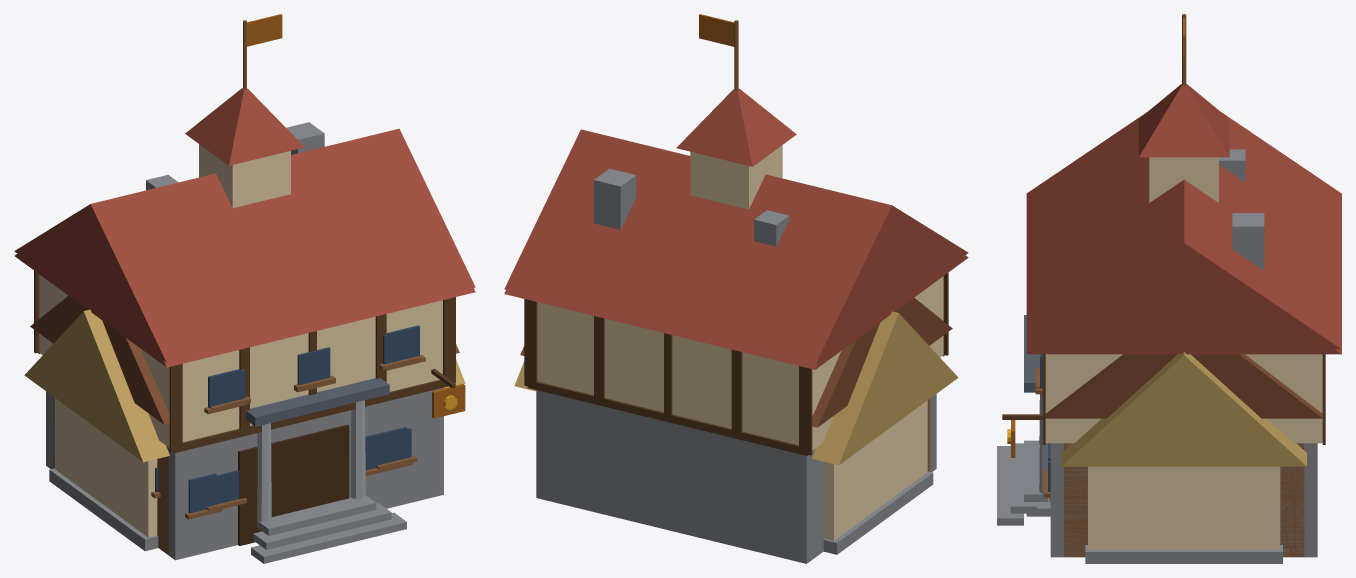
File: village.glb
The picture shows the model from 3 angles, left to right: view 1: azimuth 30°, elevation 25°; view 2: azimuth 150°, elevation 25°; view 3: azimuth 270°, elevation 25°; orthographic projection. The views are drawn at different scales.
Visible parts, largest first — view 1: roof.006, ground_floor, upper_floor, roof.002, roof.005, walls.002, door.002, tower_roof, upper_floor.002, roof.007, tower, porch_roof (+24 smaller); view 2: roof.006, ground_floor, upper_floor, upper_floor.002, roof.005, roof.002, walls.002, tower_roof, roof.007, tower, beam.011, chimney.004 (+11 smaller); view 3: roof.006, roof.002, walls.002, roof.005, roof.007, upper_floor, tower_roof, ground_floor, walls.003, upper_floor.002, foundation.002, tower (+7 smaller).
Boxes of the visible parts, x1,y1,x2,y2 form: roof.006: (14, 128, 475, 362); ground_floor: (46, 387, 443, 560); upper_floor: (39, 274, 442, 447); roof.002: (14, 204, 475, 367); roof.005: (24, 309, 465, 462); walls.002: (55, 398, 157, 537); door.002: (273, 424, 349, 516); tower_roof: (185, 88, 304, 165); upper_floor.002: (39, 275, 442, 446); roof.007: (30, 296, 459, 424); tower: (199, 144, 290, 208); porch_roof: (246, 378, 389, 426); roof.006: (504, 129, 968, 364); ground_floor: (536, 390, 936, 563); upper_floor: (537, 276, 943, 450); upper_floor.002: (537, 302, 943, 449); roof.005: (514, 311, 958, 465); roof.002: (504, 205, 968, 369); walls.002: (825, 400, 927, 540); tower_roof: (676, 89, 796, 166); roof.007: (520, 297, 952, 427); tower: (690, 145, 782, 209); beam.011: (527, 381, 808, 455); chimney.004: (593, 168, 636, 229); roof.006: (1026, 112, 1341, 349); roof.002: (1026, 243, 1341, 354); walls.002: (1088, 466, 1280, 549); roof.005: (1061, 352, 1306, 466); roof.007: (1045, 354, 1322, 418); upper_floor: (1045, 354, 1322, 443); tower_roof: (1138, 84, 1229, 157); ground_floor: (1050, 443, 1317, 557); walls.003: (1064, 443, 1304, 557); upper_floor.002: (1045, 354, 1322, 443); foundation.002: (1085, 545, 1282, 563); tower: (1149, 157, 1218, 202).
Size of the model in its own units: 7.2 by 10.01 by 6.45.
